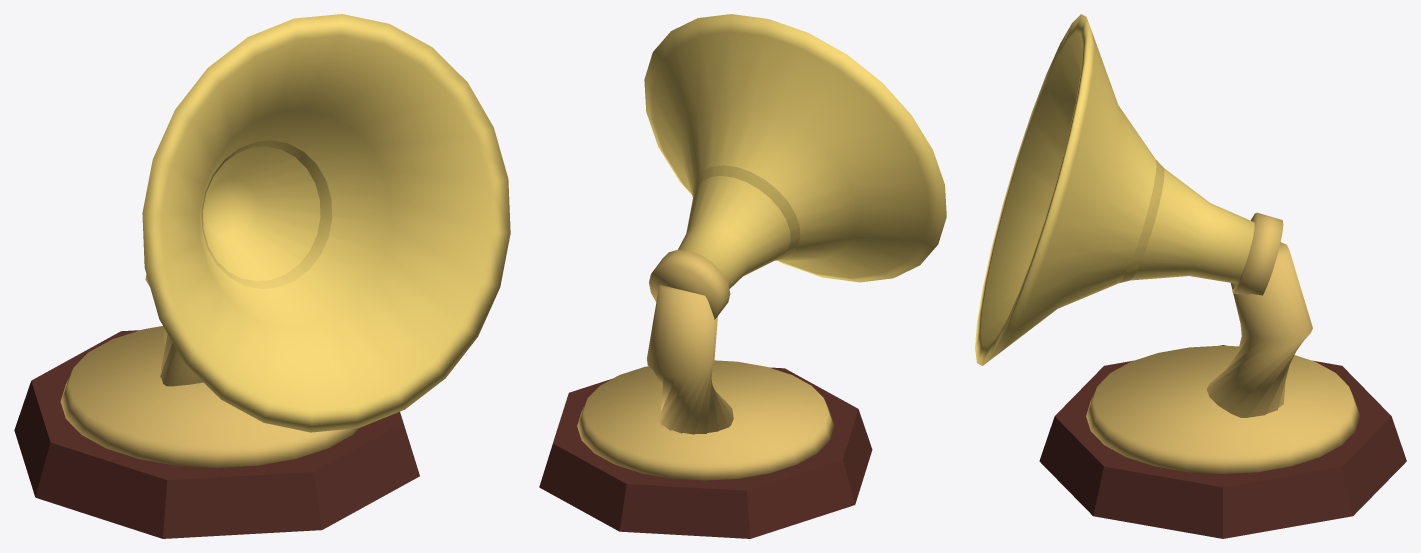
Rendered from settings_gramophone_bell.glb.
The picture shows the model from 3 angles, left to right: view 1: azimuth 30°, elevation 25°; view 2: azimuth 150°, elevation 25°; view 3: azimuth 270°, elevation 25°; orthographic projection. The views are drawn at different scales.
Parts seen in each view (by area): view 1: FlaredBell, PlinthBase, PlinthRim, AcousticElbow; view 2: FlaredBell, PlinthBase, PlinthRim, AcousticElbow, BellCollar; view 3: FlaredBell, PlinthBase, PlinthRim, AcousticElbow, BellCollar.
Boxes of the visible parts, x1,y1,x2,y2 form: FlaredBell: [142, 14, 510, 432]; PlinthBase: [14, 330, 419, 538]; PlinthRim: [60, 326, 358, 467]; AcousticElbow: [145, 274, 203, 386]; FlaredBell: [644, 14, 946, 288]; PlinthBase: [539, 367, 872, 538]; PlinthRim: [577, 360, 834, 480]; AcousticElbow: [647, 285, 733, 434]; BellCollar: [649, 249, 730, 319]; FlaredBell: [975, 14, 1254, 365]; PlinthBase: [1039, 345, 1406, 538]; PlinthRim: [1086, 345, 1359, 473]; AcousticElbow: [1206, 242, 1312, 417]; BellCollar: [1232, 212, 1283, 295].
Bounding box in the file's own units: 0.192 × 0.2476 × 0.2256.
